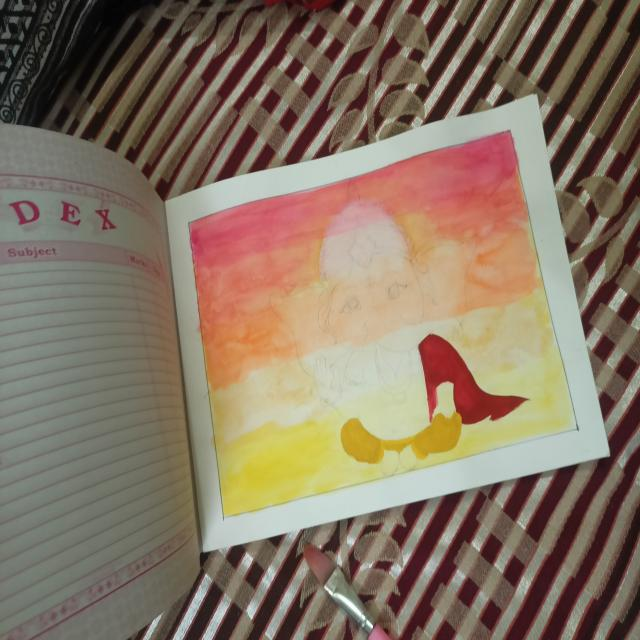notebook: (147, 83, 635, 574)
